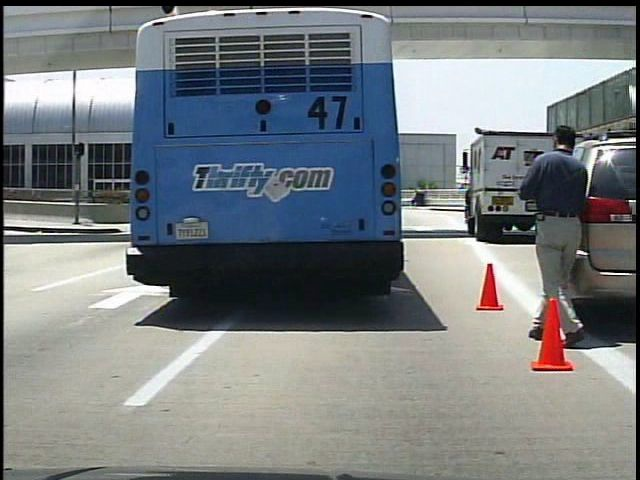person: (520, 117, 599, 349)
